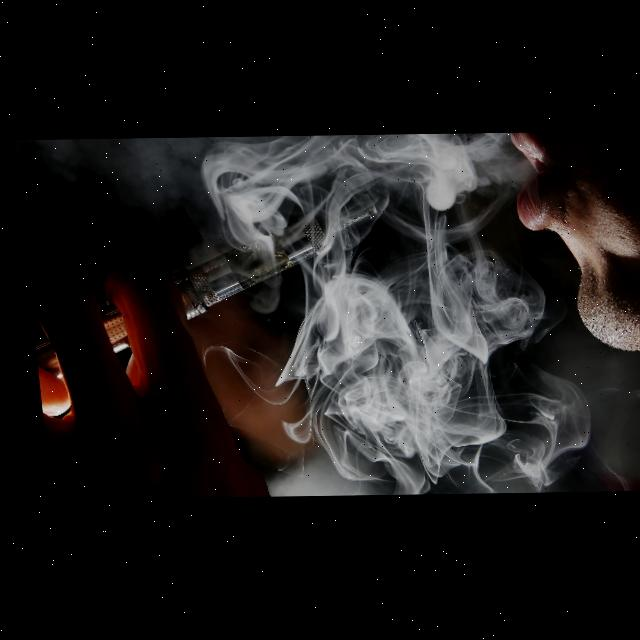vape: (16, 190, 387, 382)
